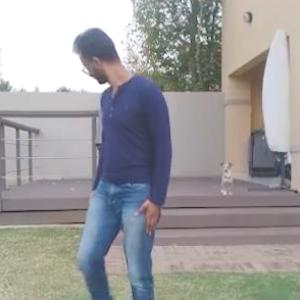follow: (61, 22, 174, 299)
